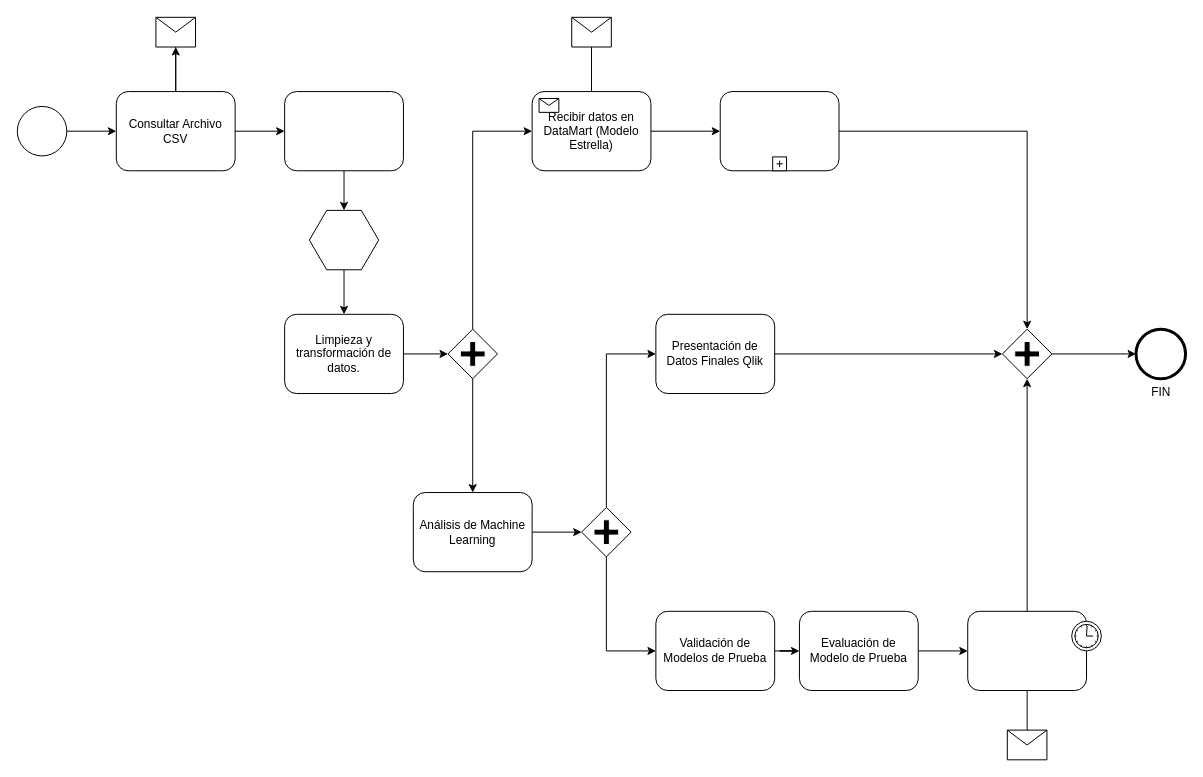
This 1203x777 diagram has some shape labels left out. Each missing label, with the centre of its shape:
Almacenar información en Pandas Dataset: (343,131)
INICIO: (41,130)
Recolección de Datos del Resultado de la Validación y Evaluación: (1027,650)
Validar Datos de DataMart: (779,131)
